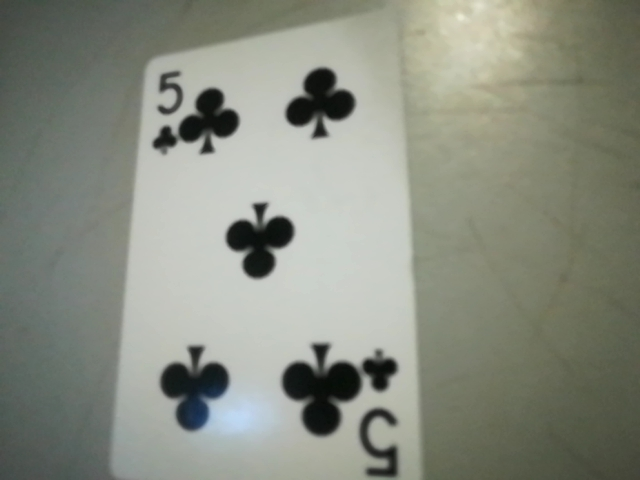mh 5: (350, 340, 417, 480)
